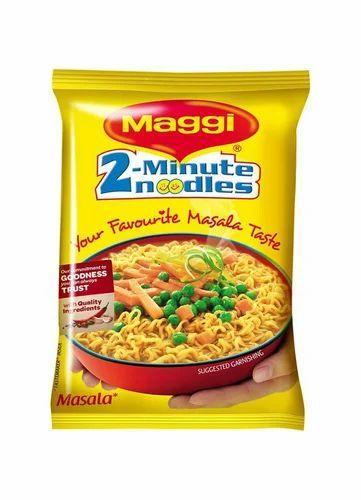Maggi: (47, 66, 312, 432)
